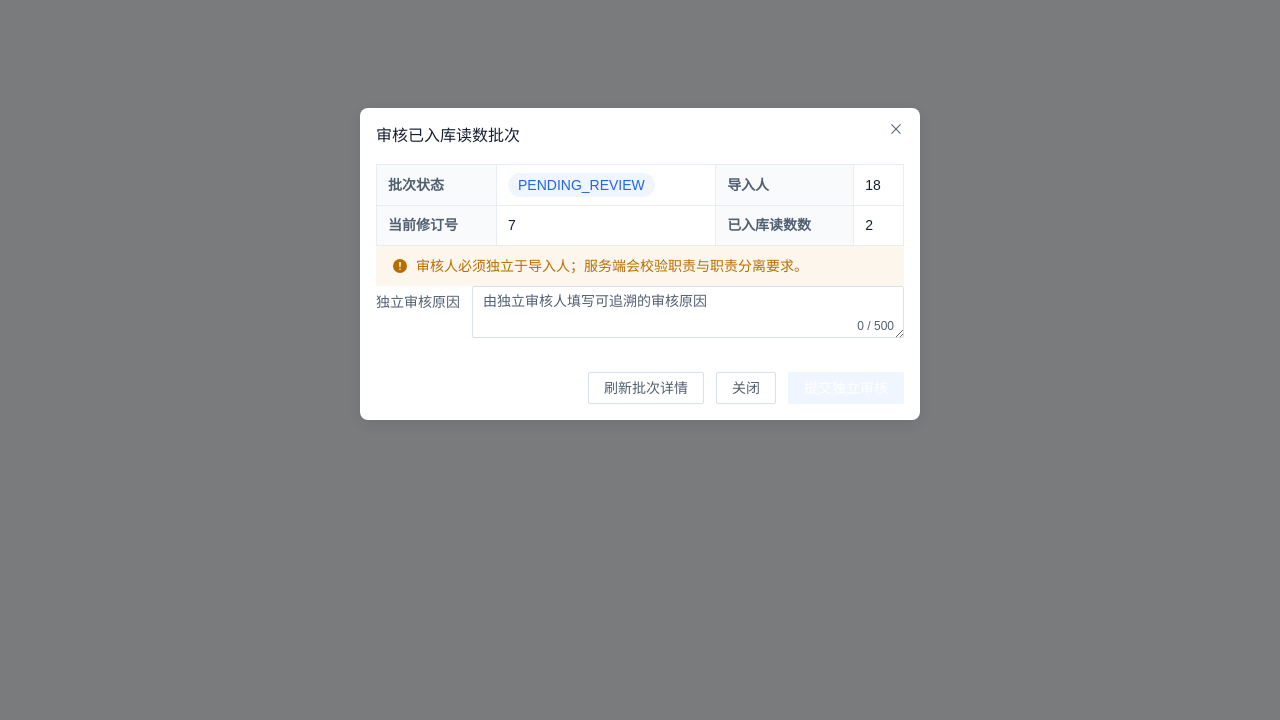
Scenario: 已入库读数批次独立审核面板 › 服务端拒绝同人审核时保留待审核详情和失败提示
Type "尝试审核" into the text box with test id "reading-batch-review-reason" at [688, 312], box [472,286,904,338]
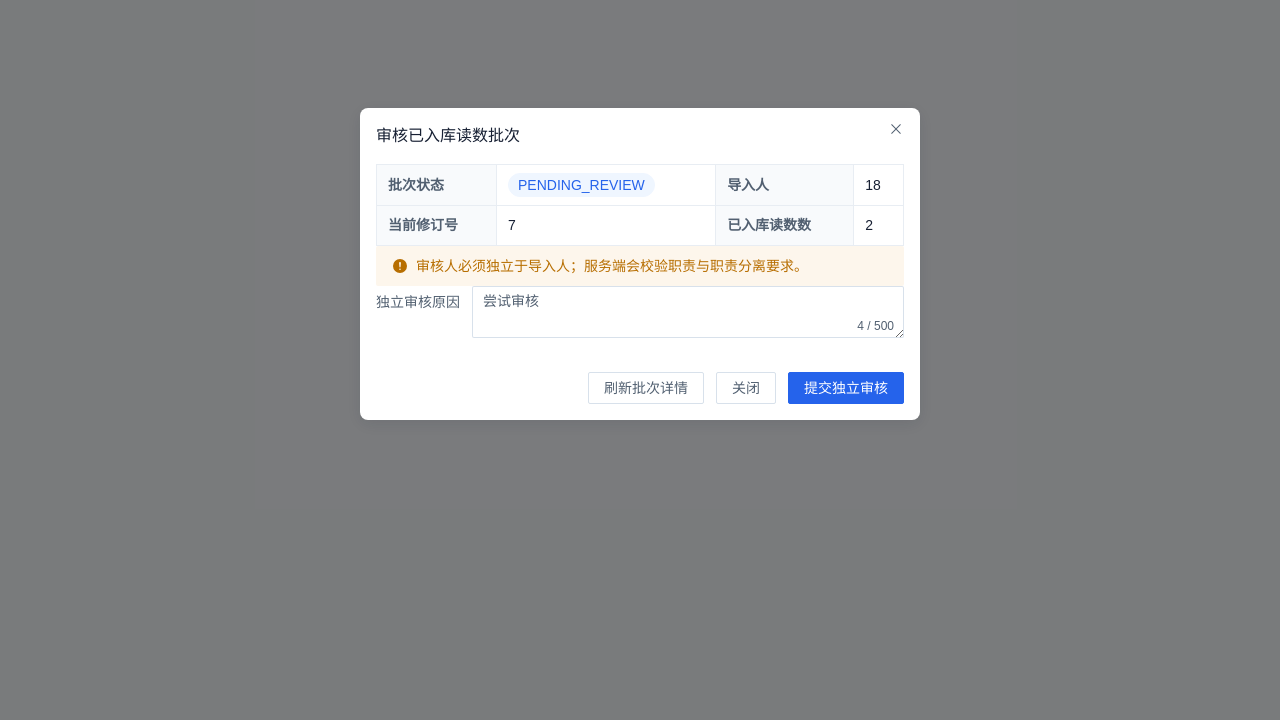
Click the button with test id "reading-batch-review-submit" at [846, 388], box [788,372,904,404]
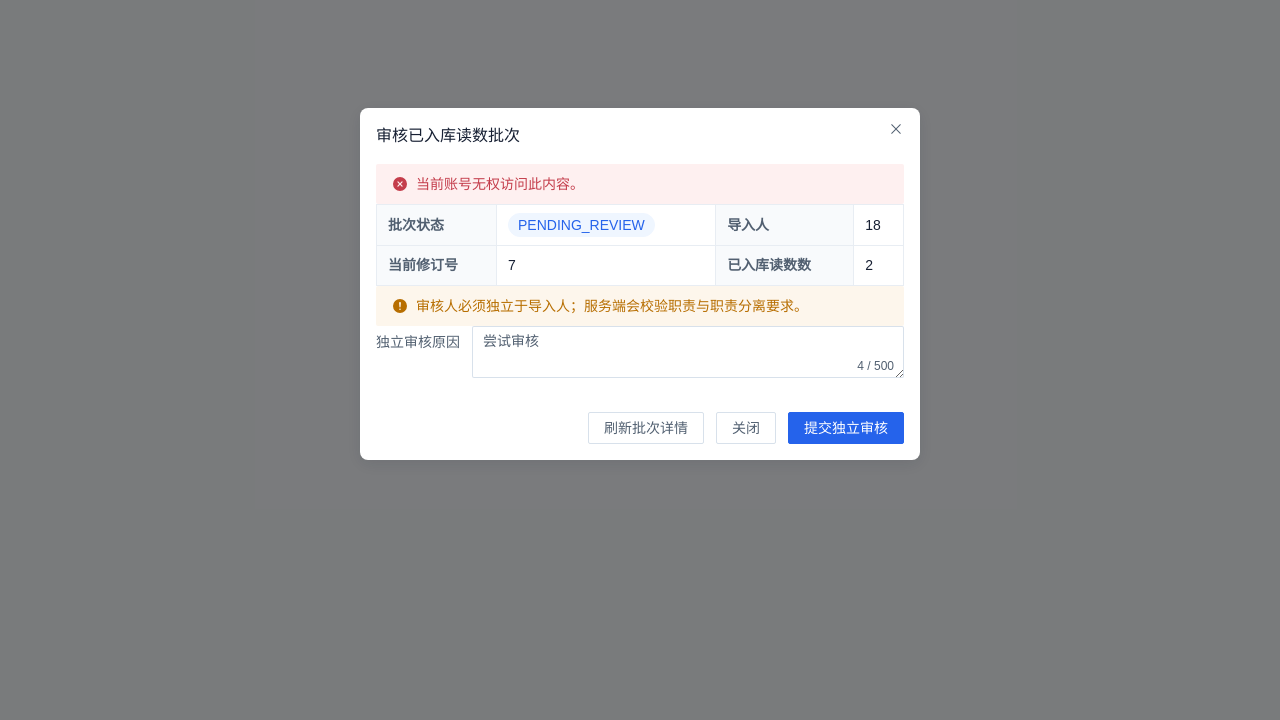
Expected: the text "PENDING_REVIEW" is shown, [518,218,645,232]
Now the text "当前账号无权访问此内容。" is shown, box [416,172,584,196]
